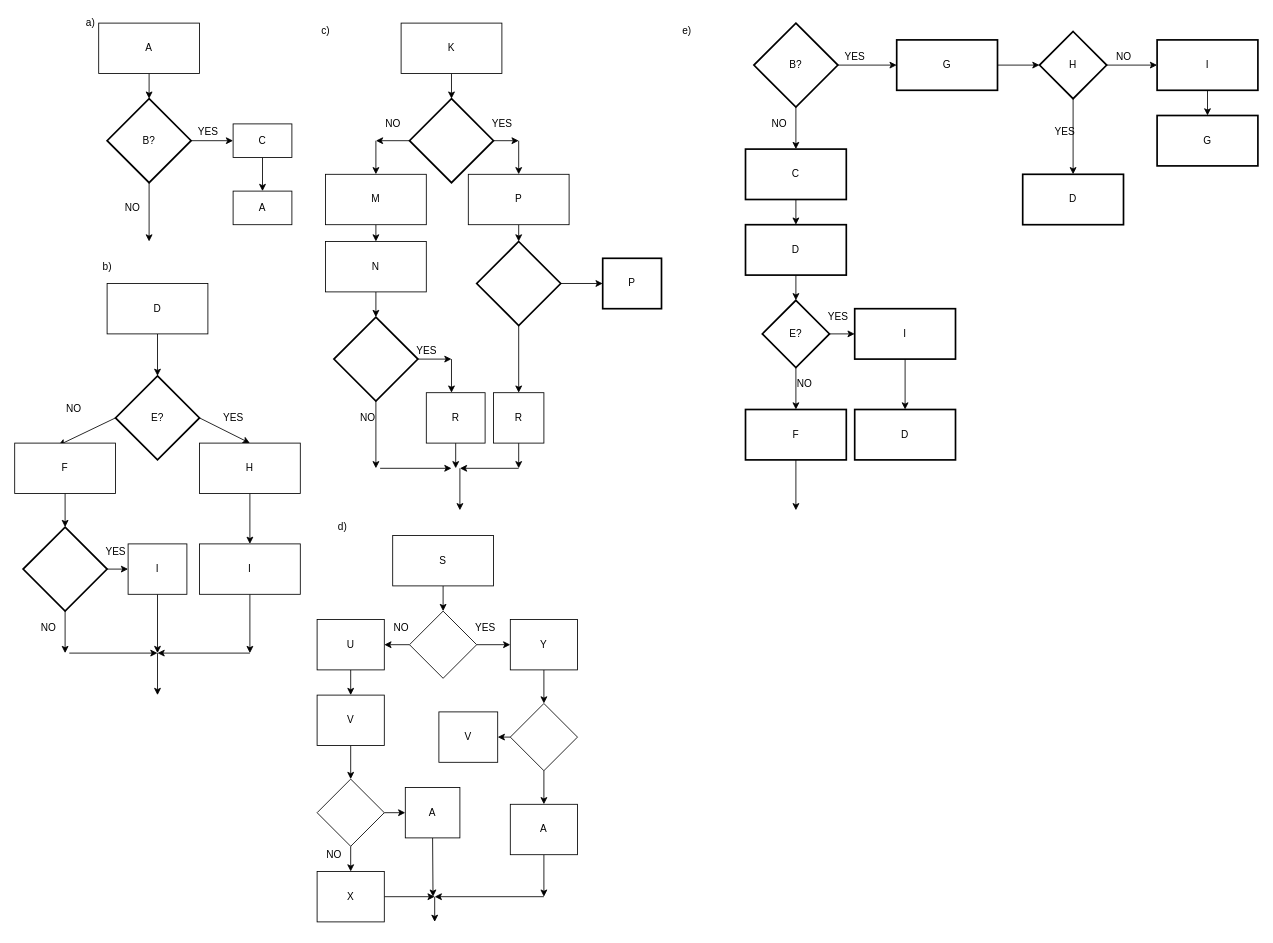
Image size: 1273x943. Some labels were removed from this diagram. Each missing label, with the centre of its shape:
G?: point 65,569
L?: point 451,140
O?: point 375,359
Q?: point 518,283
T?: point 443,644
W?: point 350,812
Z?: point 543,737
